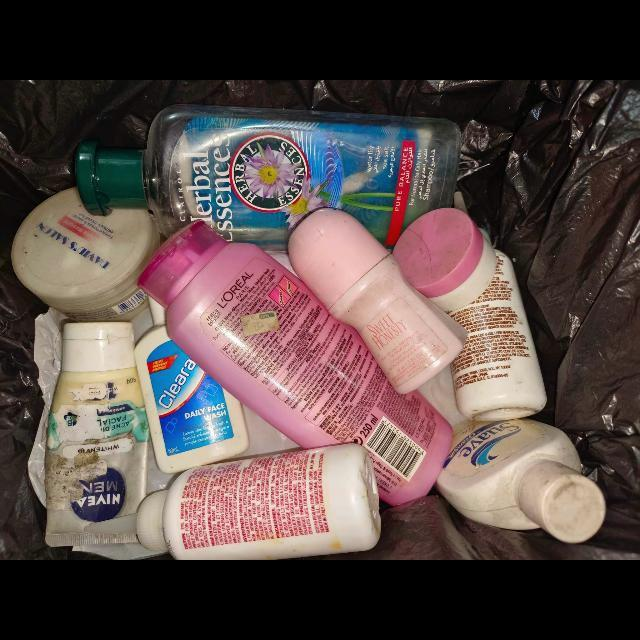plastic_bottle: (136, 221, 457, 509), (72, 104, 462, 252), (84, 444, 382, 560), (289, 211, 466, 396), (435, 418, 607, 544), (134, 296, 251, 475), (449, 248, 548, 422)
plastic_container: (45, 322, 149, 548), (11, 187, 161, 322), (391, 207, 497, 316)
